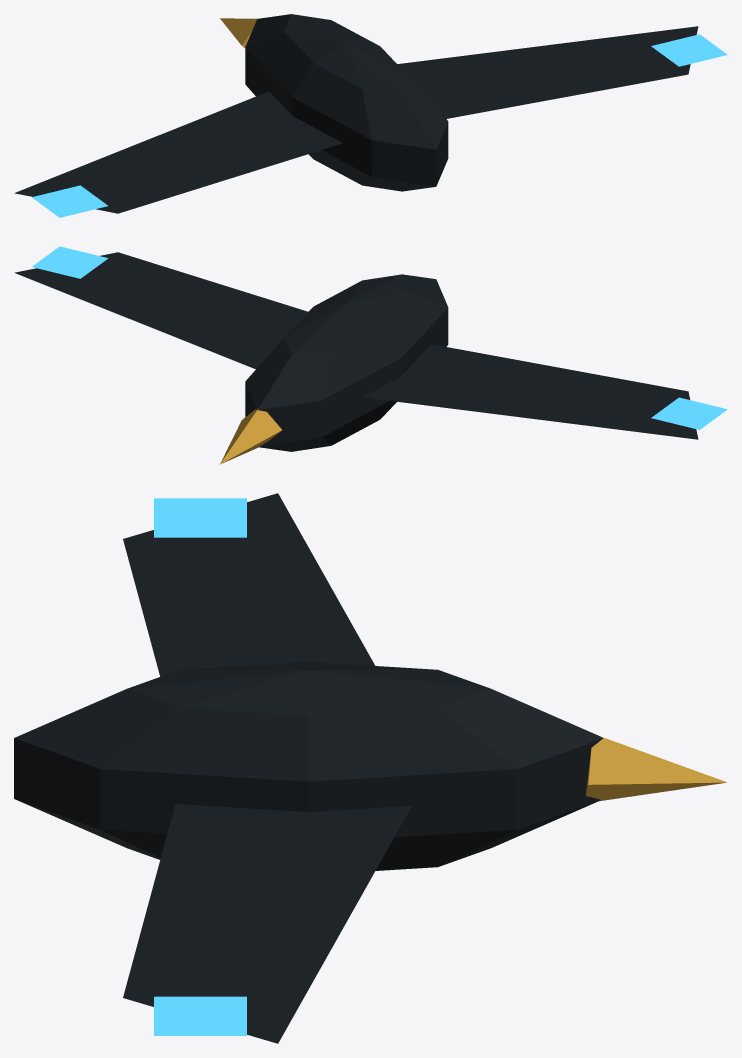
Rendered from bird.glb.
The picture shows the model from 3 angles, top to bottom: view 1: azimuth 30°, elevation 25°; view 2: azimuth 150°, elevation 25°; view 3: azimuth 270°, elevation 25°; orthographic projection. The views are drawn at different scales.
Parts seen in each view (by area): view 1: Body, Wing_L, Wing_R; view 2: Body, Wing_L, Wing_R; view 3: Body, Wing_R, Wing_L.
Boxes of the visible parts, box(x1,y1,x2,y2) form: Body: box(220, 14, 448, 191); Wing_L: box(14, 91, 342, 217); Wing_R: box(397, 26, 727, 118); Body: box(220, 274, 448, 464); Wing_L: box(362, 344, 727, 439); Wing_R: box(14, 246, 307, 369); Body: box(14, 662, 727, 870); Wing_R: box(123, 804, 411, 1043); Wing_L: box(123, 493, 375, 676).
Size of the model in its own units: 0.84 by 0.14 by 0.4602.
